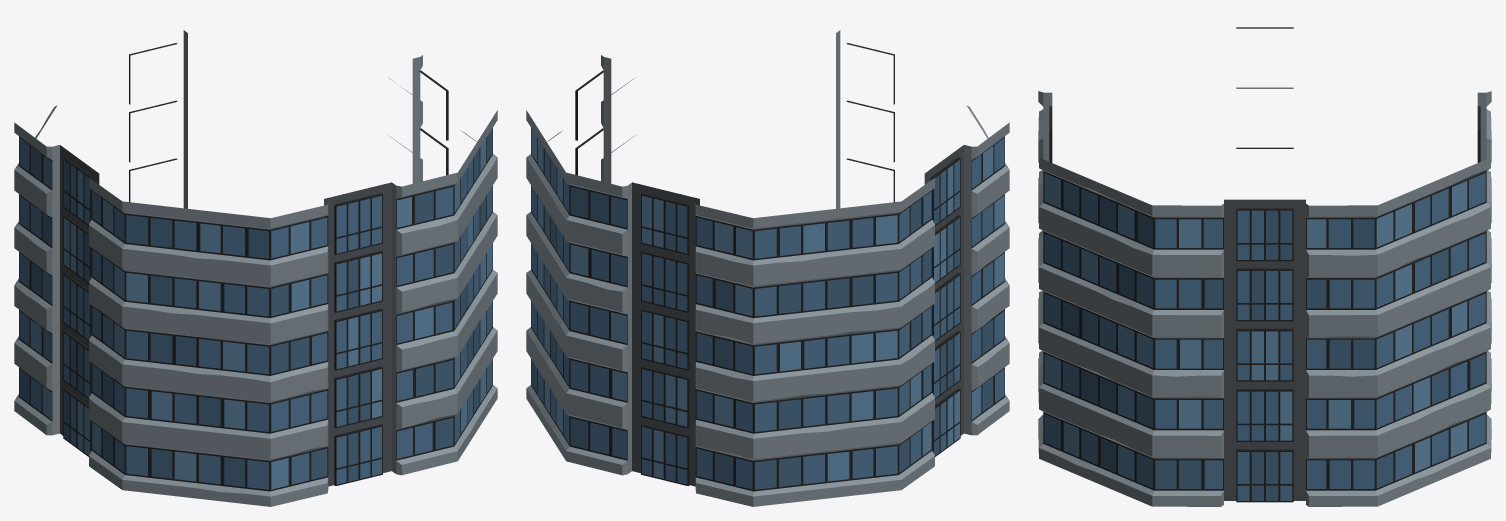
The model's file is oct_office_floors.glb.
The picture shows the model from 3 angles, left to right: view 1: azimuth 30°, elevation 25°; view 2: azimuth 150°, elevation 25°; view 3: azimuth 270°, elevation 25°; orthographic projection. The views are drawn at different scales.
Visible parts, largest first — view 1: SM_Bld_OfficeOctagon_01; view 2: SM_Bld_OfficeOctagon_01; view 3: SM_Bld_OfficeOctagon_01.
Part boxes in pixels (left/top/right/bottom): SM_Bld_OfficeOctagon_01: left=14, top=30, right=497, bottom=506; SM_Bld_OfficeOctagon_01: left=526, top=30, right=1009, bottom=506; SM_Bld_OfficeOctagon_01: left=1038, top=27, right=1491, bottom=506.
Size of the model in its own units: 20.46 by 15 by 20.46.
1 material, 1 textured.
